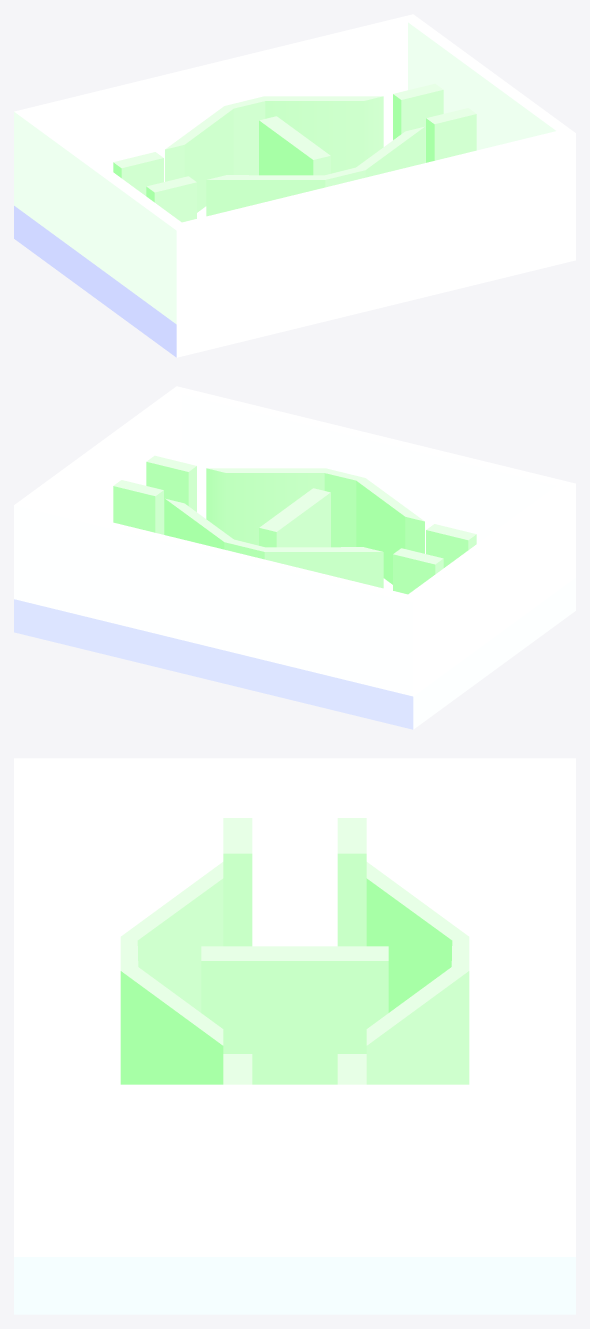
The model's file is map_will-Ha.fbx.
3 views of the same model, one above another, from view 1: azimuth 30°, elevation 25°; view 2: azimuth 150°, elevation 25°; view 3: azimuth 270°, elevation 25° (orthographic). The views are drawn at different scales.
Parts seen in each view (by area): view 1: Ha.001, Ha.002, Ha, Box.002, Box.003, Box.001; view 2: Ha.001, Ha.002, Ha, Box.002, Box.003, Box.001; view 3: Ha.002, Ha, Box.002, Box.001, Ha.001, Box.003.
Boxes of the visible parts, box(x1,y1,x2,y2) form: Ha.001: box(14, 14, 575, 324); Ha.002: box(14, 14, 575, 324); Ha: box(14, 120, 575, 357); Box.002: box(165, 96, 424, 216); Box.003: box(113, 83, 476, 222); Box.001: box(259, 116, 330, 175); Ha.001: box(14, 386, 575, 696); Ha.002: box(14, 386, 575, 696); Ha: box(14, 492, 575, 729); Box.002: box(165, 468, 424, 588); Box.003: box(113, 455, 476, 594); Box.001: box(259, 488, 330, 547); Ha.002: box(14, 758, 575, 1256); Ha: box(14, 931, 575, 1314); Box.002: box(120, 862, 469, 1084); Box.001: box(201, 946, 388, 1084); Ha.001: box(14, 758, 575, 1094); Box.003: box(223, 818, 366, 1084).
Size of the model in its own units: 459 by 140 by 324.
